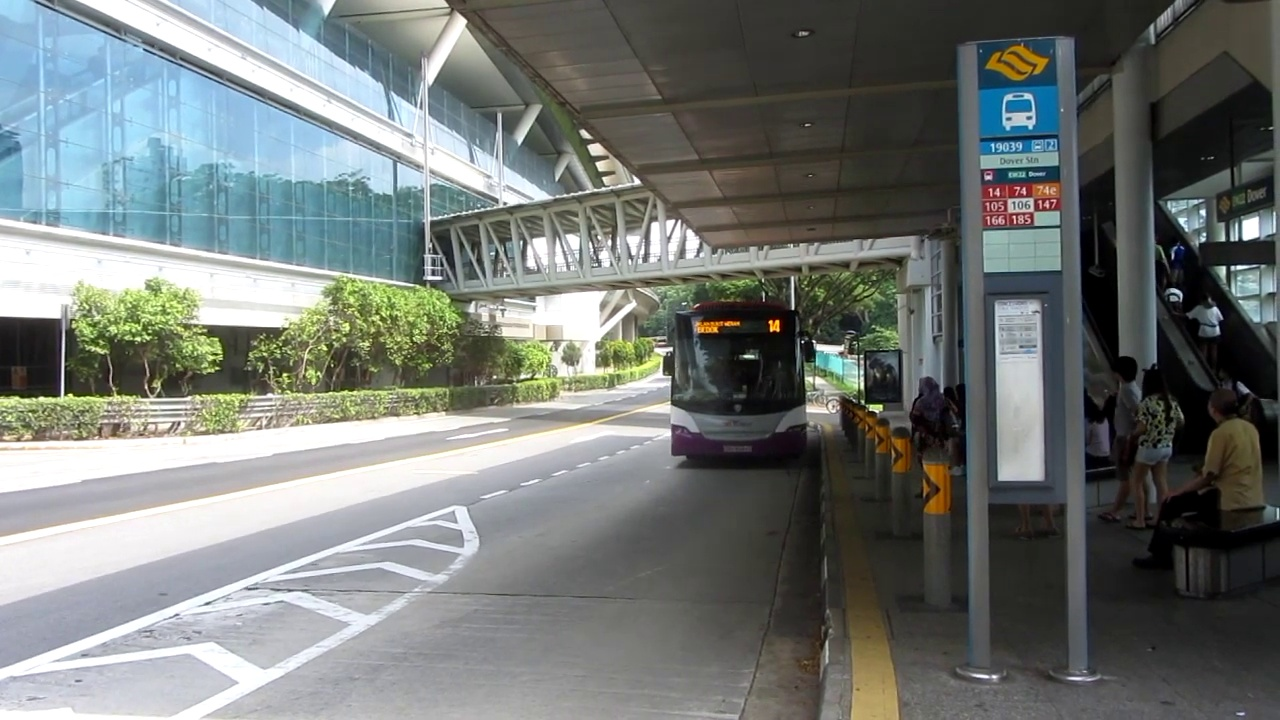bus panel: (689, 318, 784, 336)
